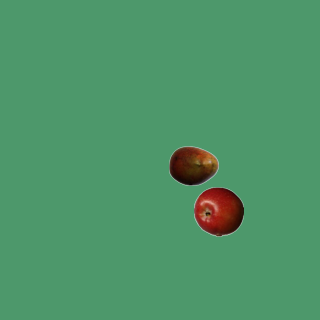Apple Braeburn: (193, 186, 243, 236)
Mango Red: (168, 140, 218, 190)
